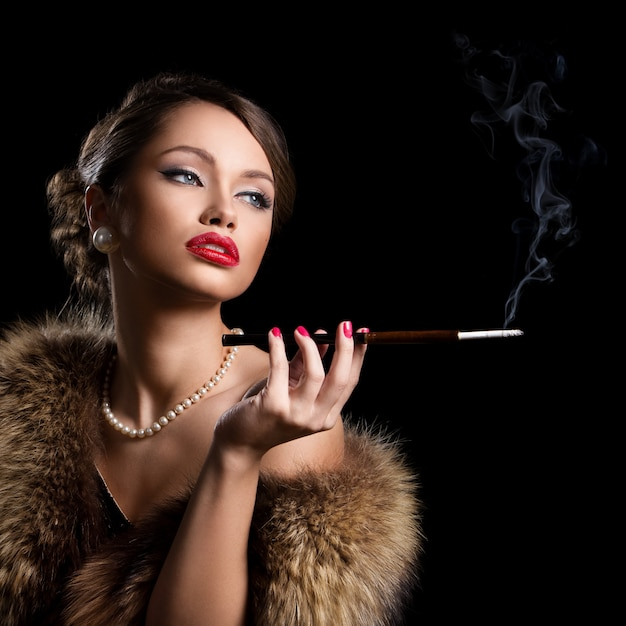cigarette: (455, 324, 524, 339)
